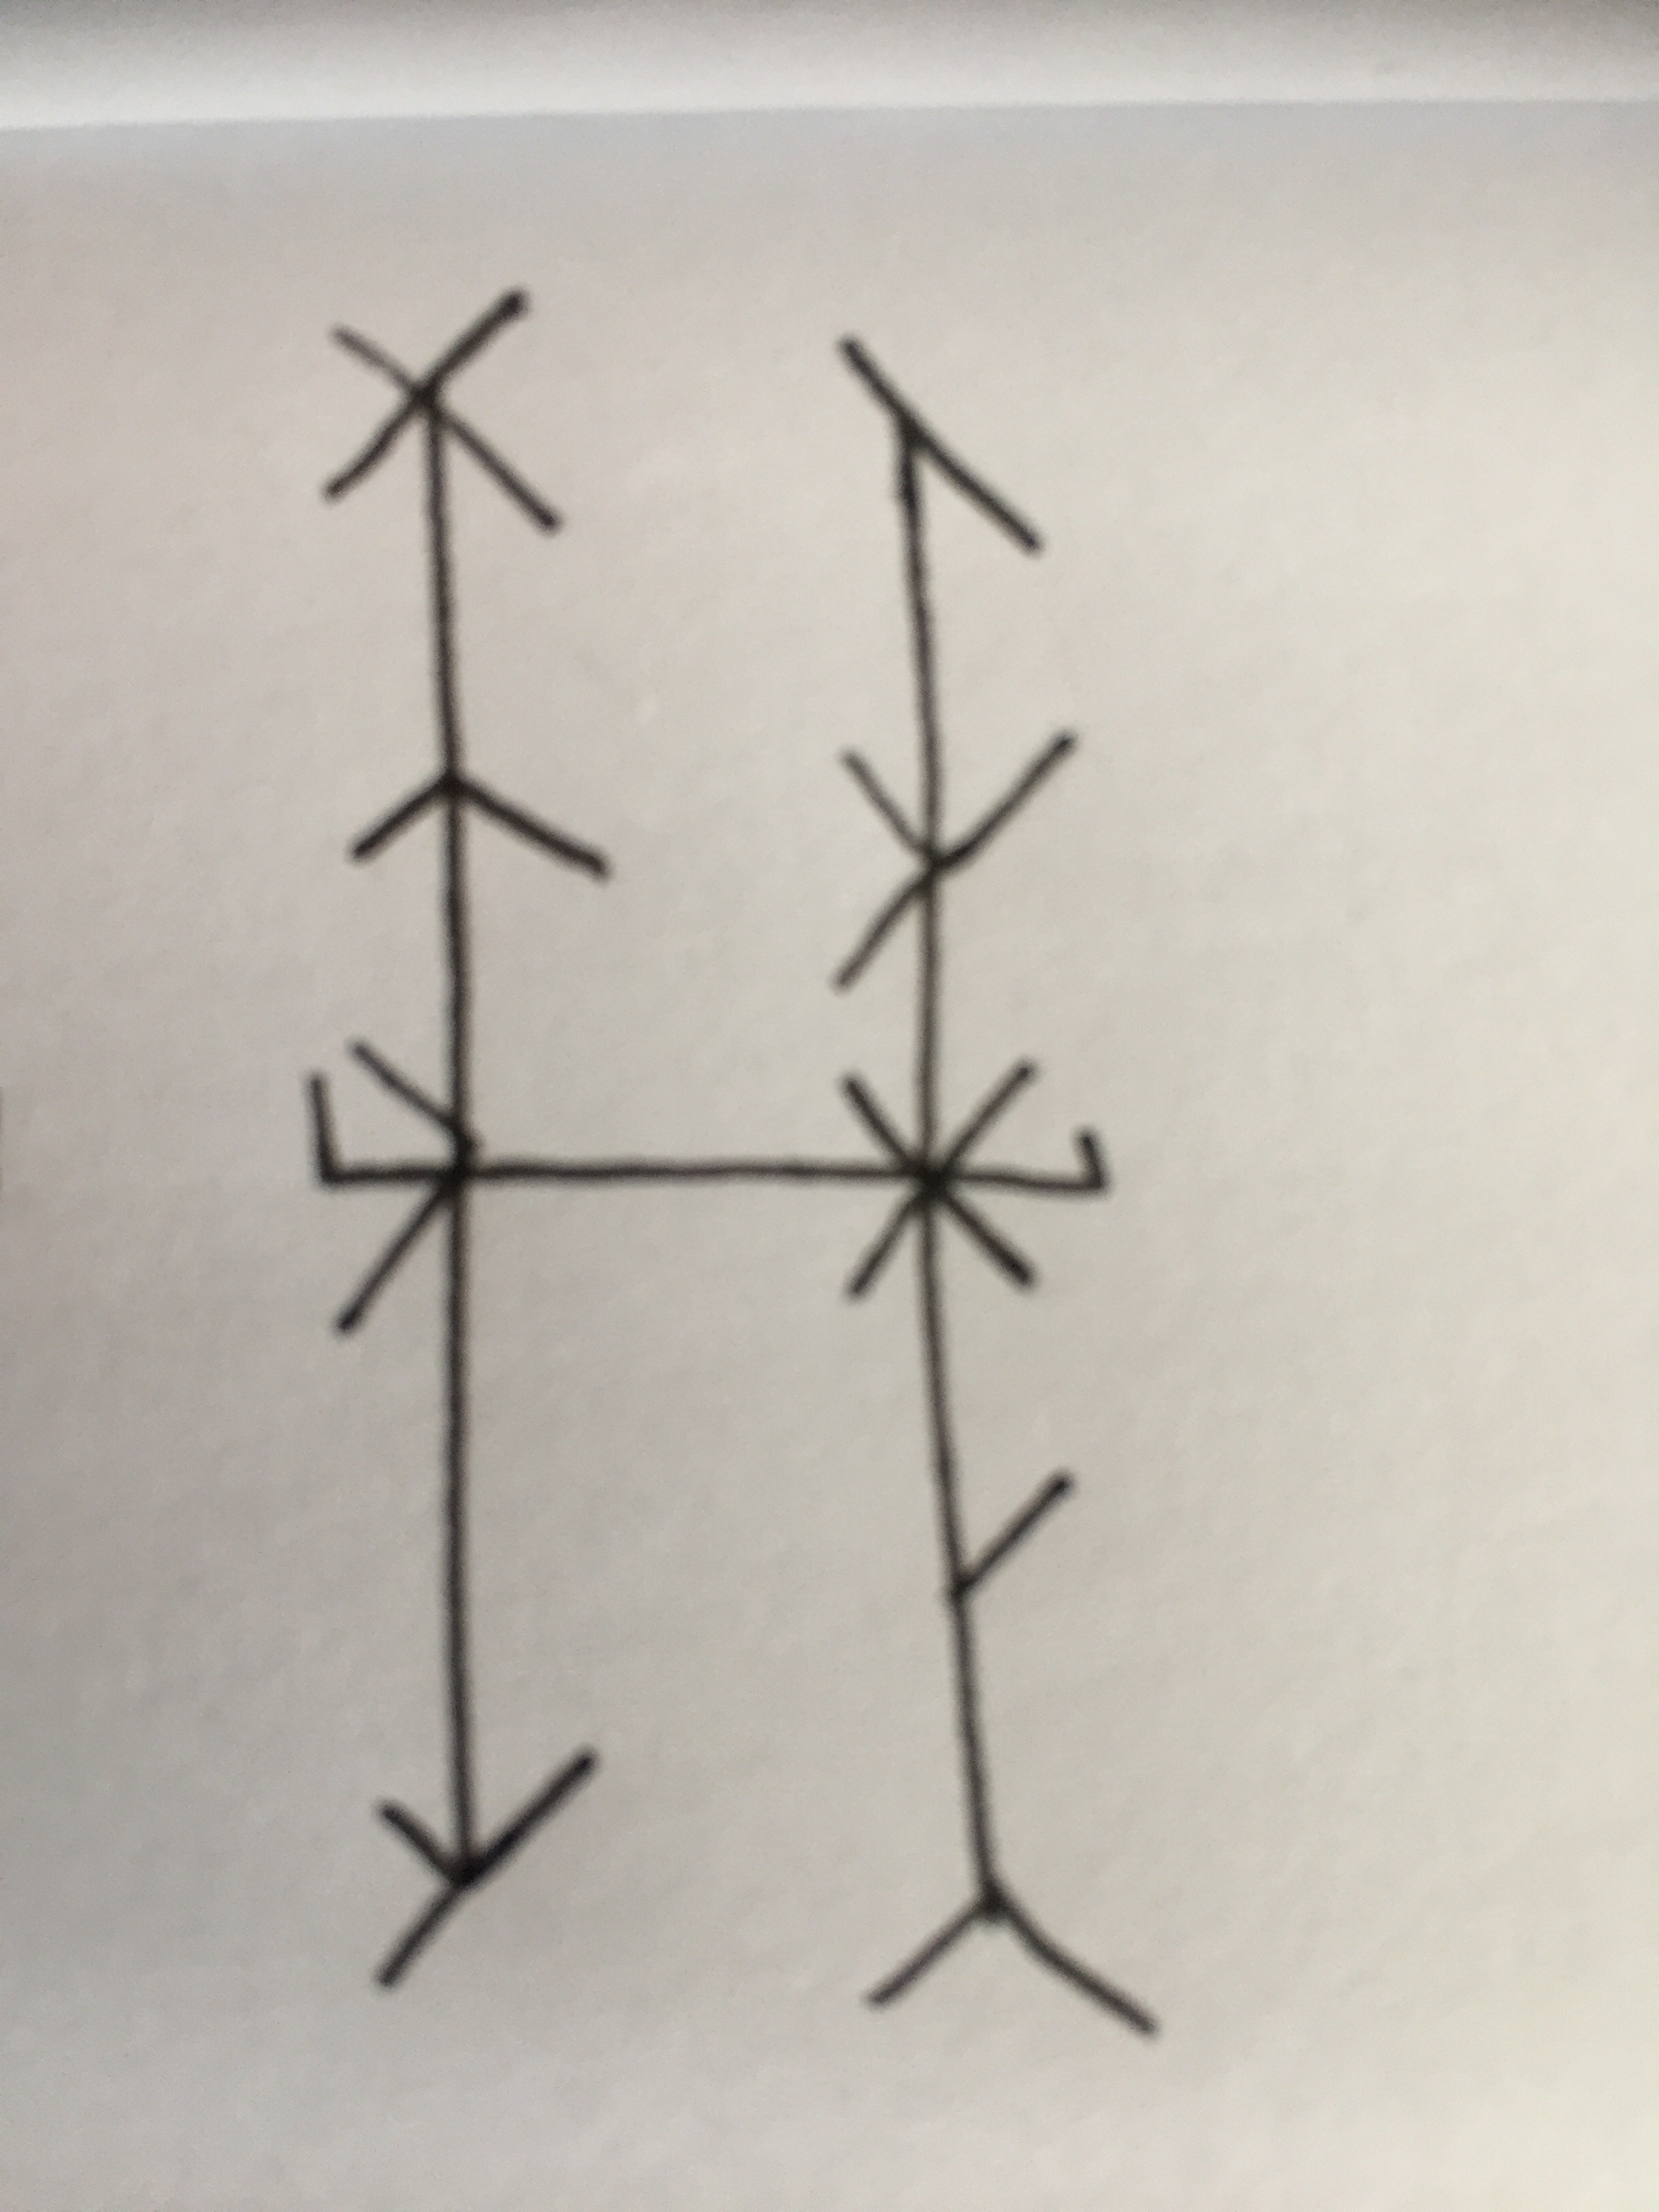Bar: (829, 336, 1162, 2045), (319, 287, 615, 1993)
Barcode: (305, 287, 1161, 2045)
End: (981, 1134, 1110, 1200)
Start: (301, 1073, 362, 1190)
